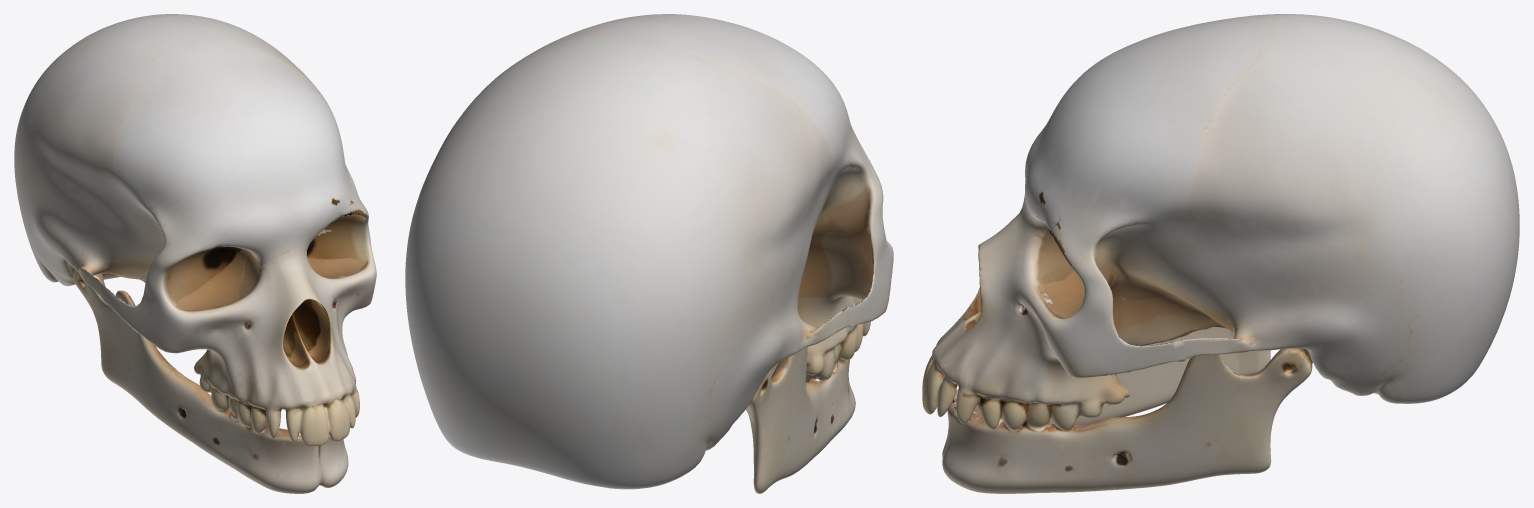
Rendered from dog-skull.glb.
3 views of the same model, side by side, from view 1: azimuth 30°, elevation 25°; view 2: azimuth 150°, elevation 25°; view 3: azimuth 270°, elevation 25° (orthographic). The views are drawn at different scales.
Parts seen in each view (by area): view 1: model; view 2: model; view 3: model.
Part boxes in pixels (x1,y1,x2,y2): model: (14, 14, 376, 493); model: (405, 14, 893, 493); model: (922, 14, 1519, 493).
Bounding box in the file's own units: 1.1 × 1.54 × 1.9.
1 material, 1 textured.
